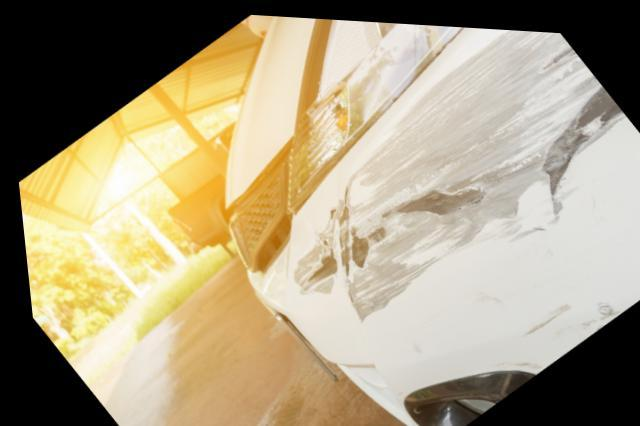scratch: (280, 24, 629, 318), (519, 289, 624, 348)
